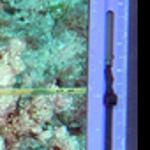dead: (3, 5, 82, 146)
